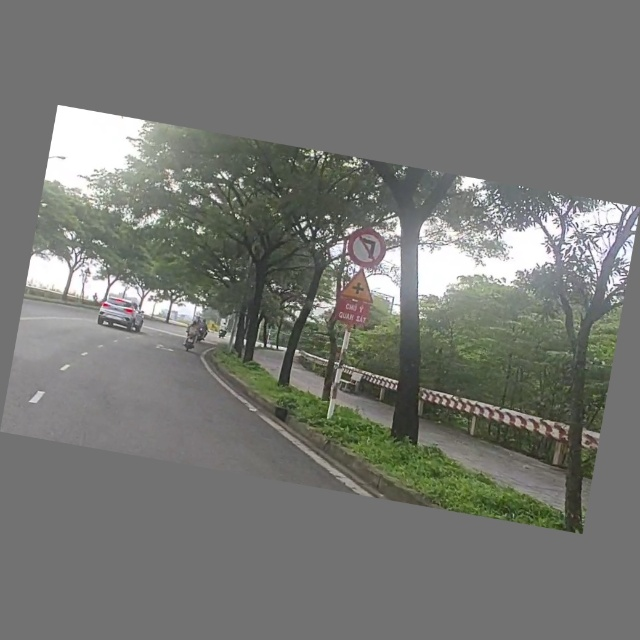P.123a: (339, 222, 400, 275)
W.205a: (336, 264, 385, 306)
